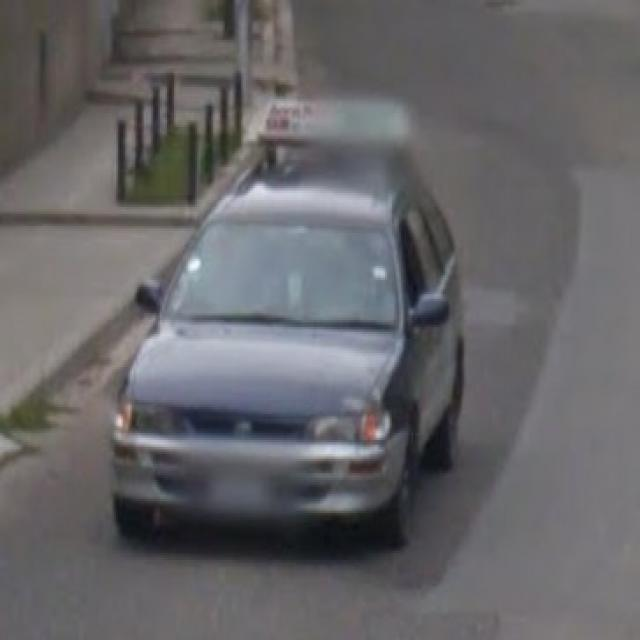cars: (116, 116, 471, 560)
